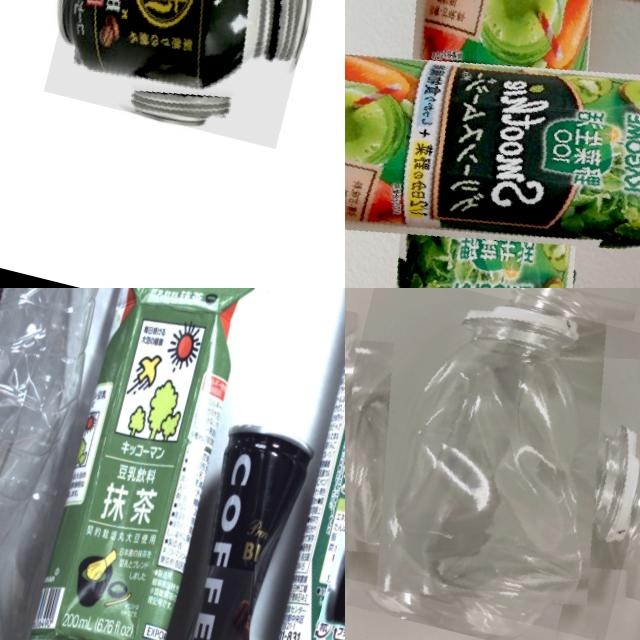Aluminium Foil: (12, 288, 262, 640), (345, 0, 640, 288), (248, 288, 345, 640)
Can: (42, 0, 332, 147), (151, 414, 321, 640)
Transparent Plastic Bottle: (345, 288, 640, 640), (0, 288, 150, 640)
